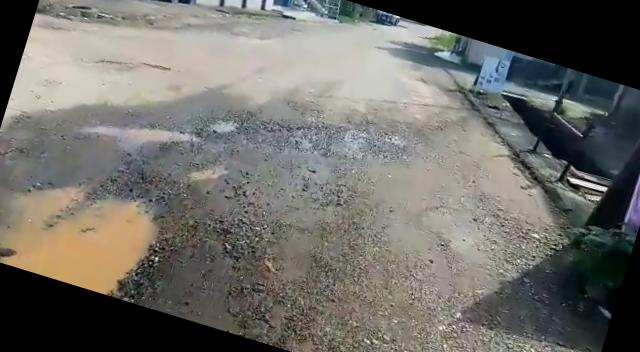pothole: (0, 160, 169, 304)
